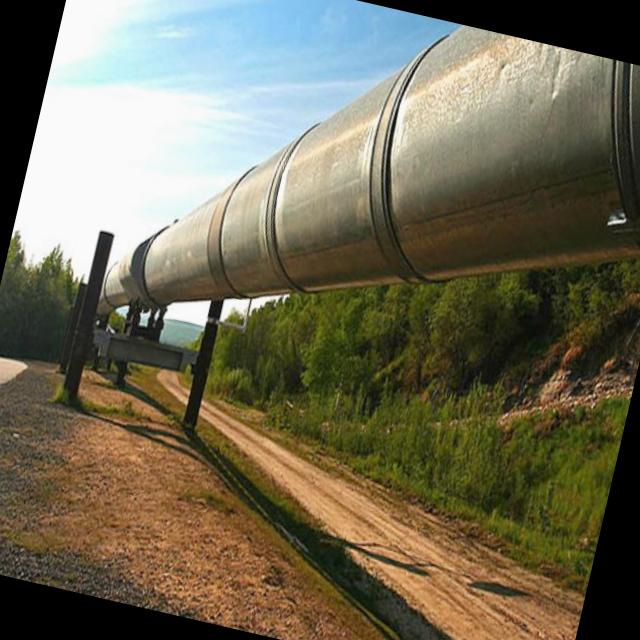gas: (98, 25, 640, 313)
